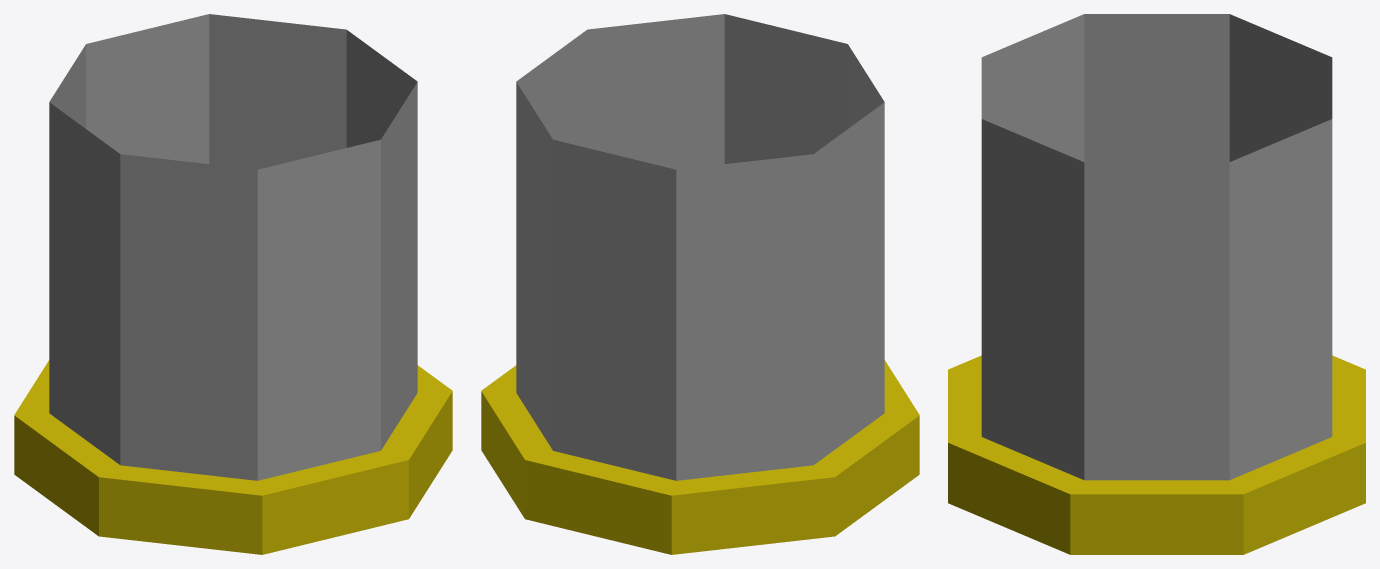
File: mpe_wheel_base.dae
3 renders of one model, left to right at view 1: azimuth 30°, elevation 25°; view 2: azimuth 150°, elevation 25°; view 3: azimuth 270°, elevation 25°, orthographic. The views are drawn at different scales.
Parts seen in each view (by area): view 1: wheel_base; view 2: wheel_base; view 3: wheel_base.
Part boxes in pixels (bbox=[...]): wheel_base: bbox=[14, 14, 452, 554]; wheel_base: bbox=[481, 14, 919, 554]; wheel_base: bbox=[948, 14, 1365, 554].
Bounding box in the file's own units: 0.125 × 0.125 × 0.125.
